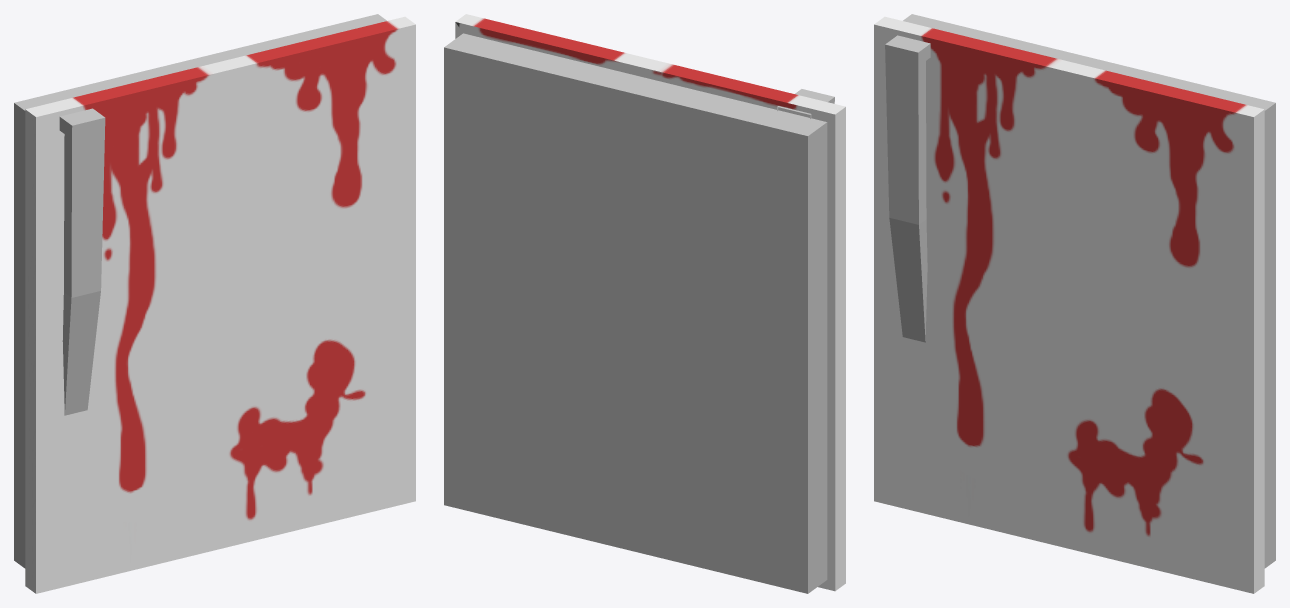
File: refrigerator_parts.fbx
The picture shows the model from 3 angles, left to right: view 1: azimuth 30°, elevation 25°; view 2: azimuth 150°, elevation 25°; view 3: azimuth 330°, elevation 25°; orthographic projection.
Visible parts, largest first — view 1: refrigerator_parts; view 2: refrigerator_parts; view 3: refrigerator_parts.
Part boxes in pixels (x1,y1,x2,y2): refrigerator_parts: [14, 14, 415, 593]; refrigerator_parts: [444, 14, 845, 593]; refrigerator_parts: [874, 14, 1275, 593].
Bounding box in the file's own units: 0.8347 × 1 × 0.162.
Materials: 1 (1 with a texture image).
